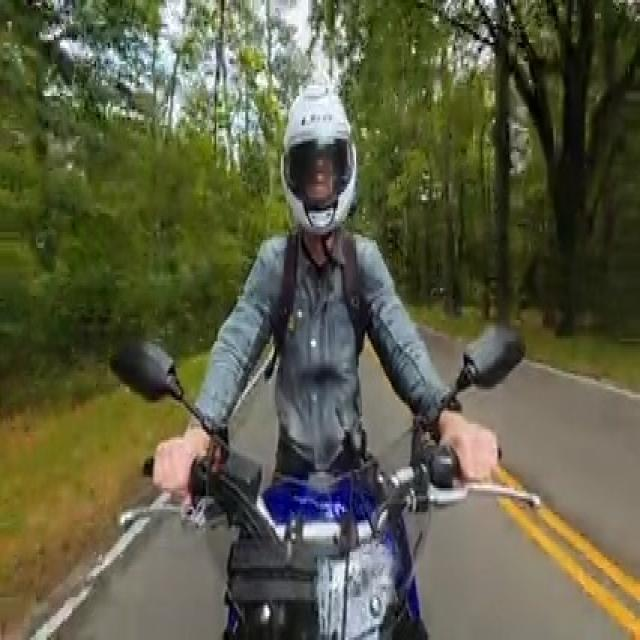Helmet_Wearer: (266, 70, 368, 230)
Person: (161, 84, 498, 506)
